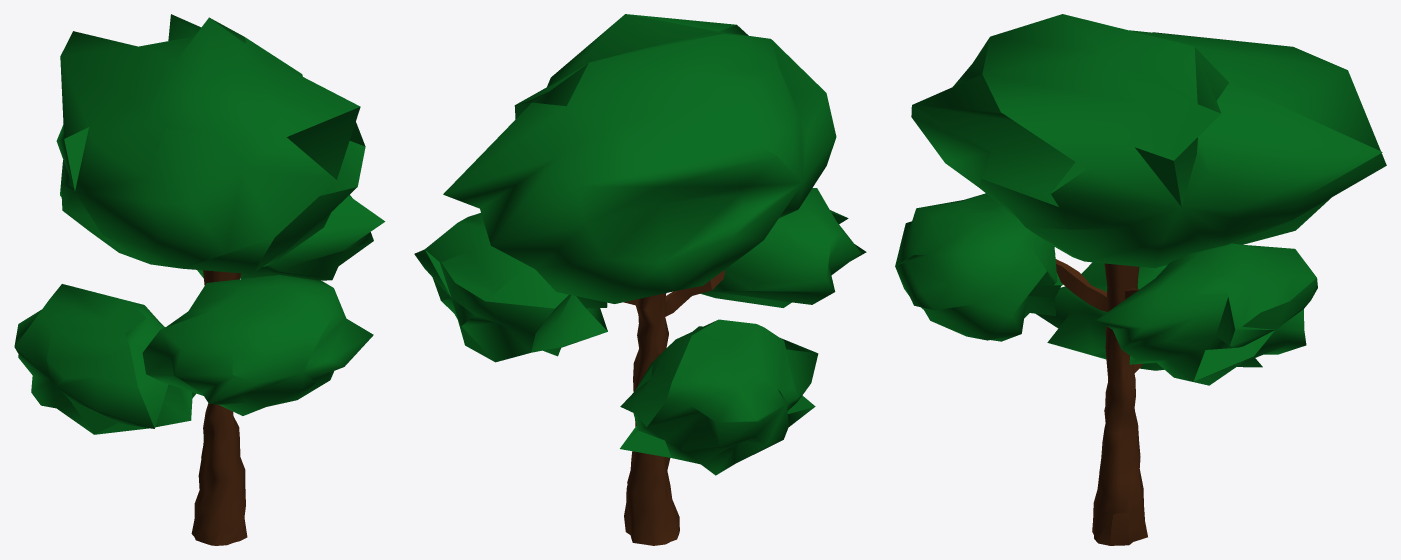
File: tree_01.fbx
3 renders of one model, left to right at view 1: azimuth 30°, elevation 25°; view 2: azimuth 150°, elevation 25°; view 3: azimuth 270°, elevation 25°, orthographic. The views are drawn at different scales.
Visible parts, largest first — view 1: Sphere100; view 2: Sphere100; view 3: Sphere100.
Part boxes in pixels (left/top/right/bottom): Sphere100: left=14, top=14, right=385, bottom=545; Sphere100: left=414, top=14, right=866, bottom=545; Sphere100: left=895, top=14, right=1386, bottom=545.
Size of the model in its own units: 791 by 1092 by 972.
